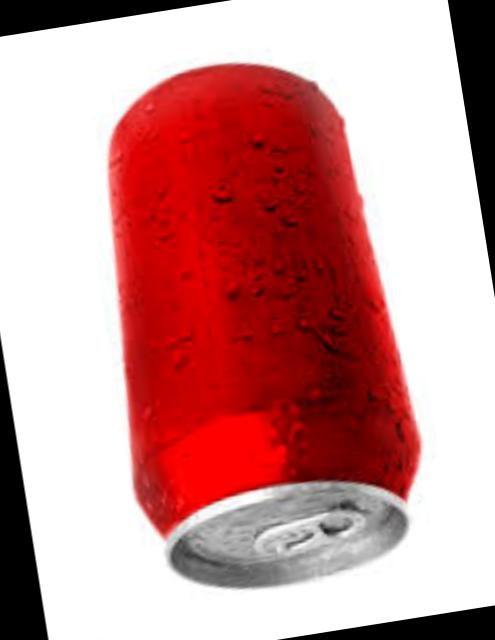metal: (112, 68, 423, 589)
